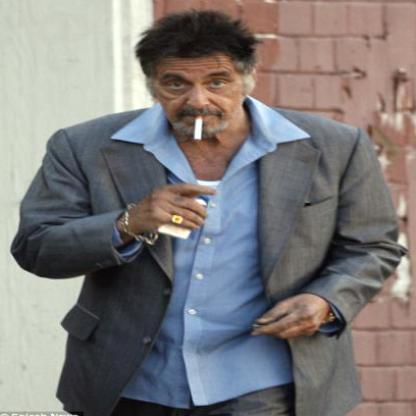cigarette: (192, 114, 206, 144)
person: (29, 11, 390, 415)
